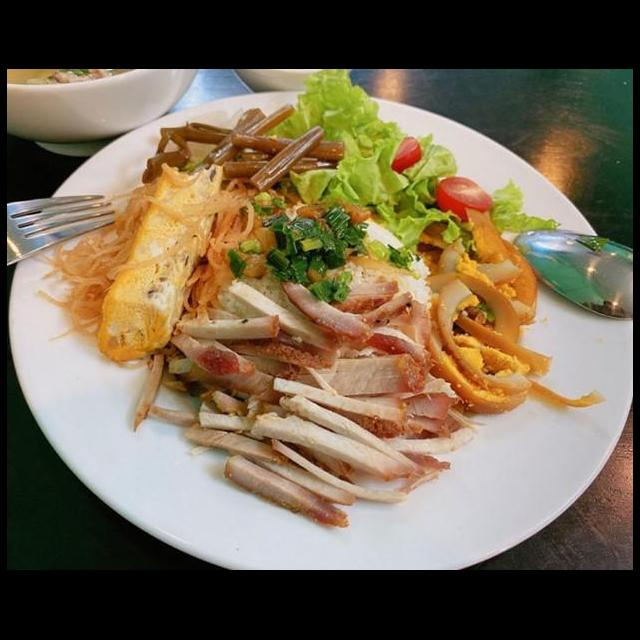bi: (283, 87, 499, 196), (302, 197, 504, 274)
com: (328, 332, 461, 418), (308, 236, 381, 314)
com suon bi trung: (37, 99, 593, 547)
dua chua: (476, 174, 594, 344)
suon: (56, 166, 374, 458)
trung: (197, 402, 467, 512), (258, 138, 520, 245)
